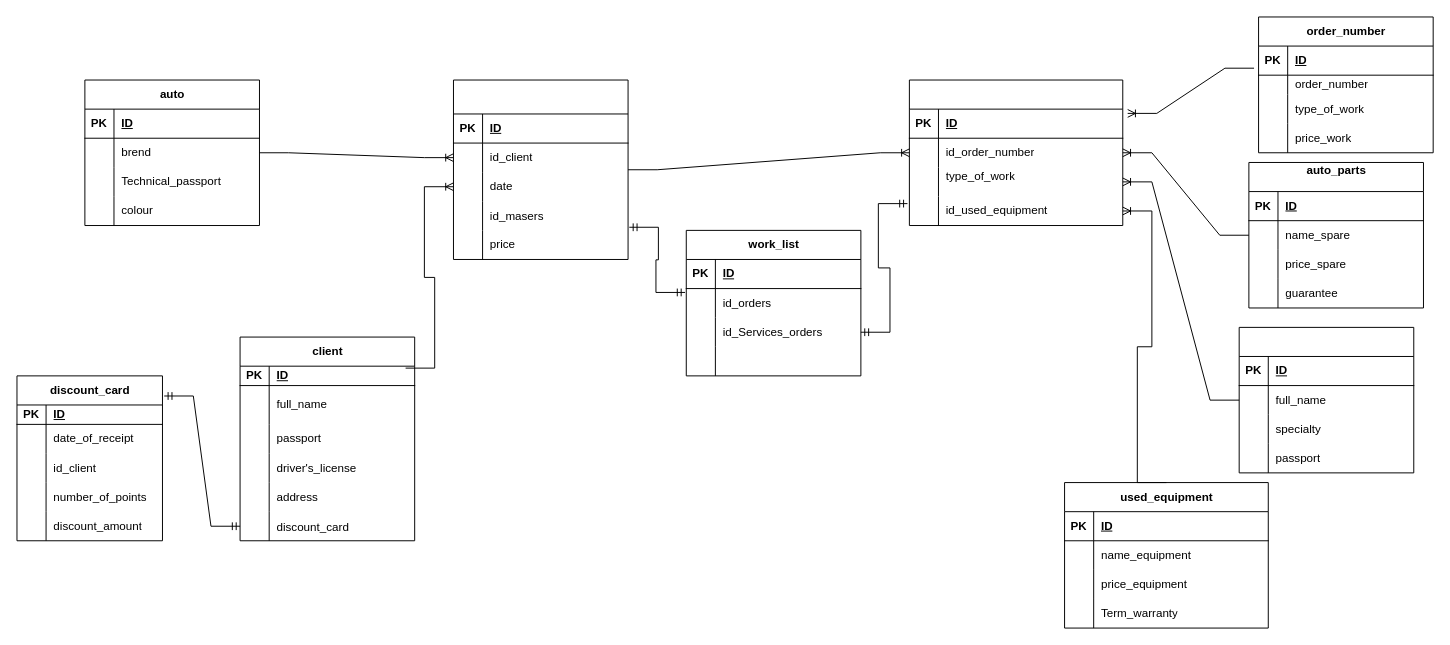
Image size: 1450x645. Some labels were removed from this diagram. The shapes that lost their labels are listed below. From the top down, each one's box as (x1, y1, x2, y2) in pixels, then its label:
(453, 79, 628, 259): orders
(908, 79, 1123, 226): services_orders
(1238, 326, 1414, 473): masters
